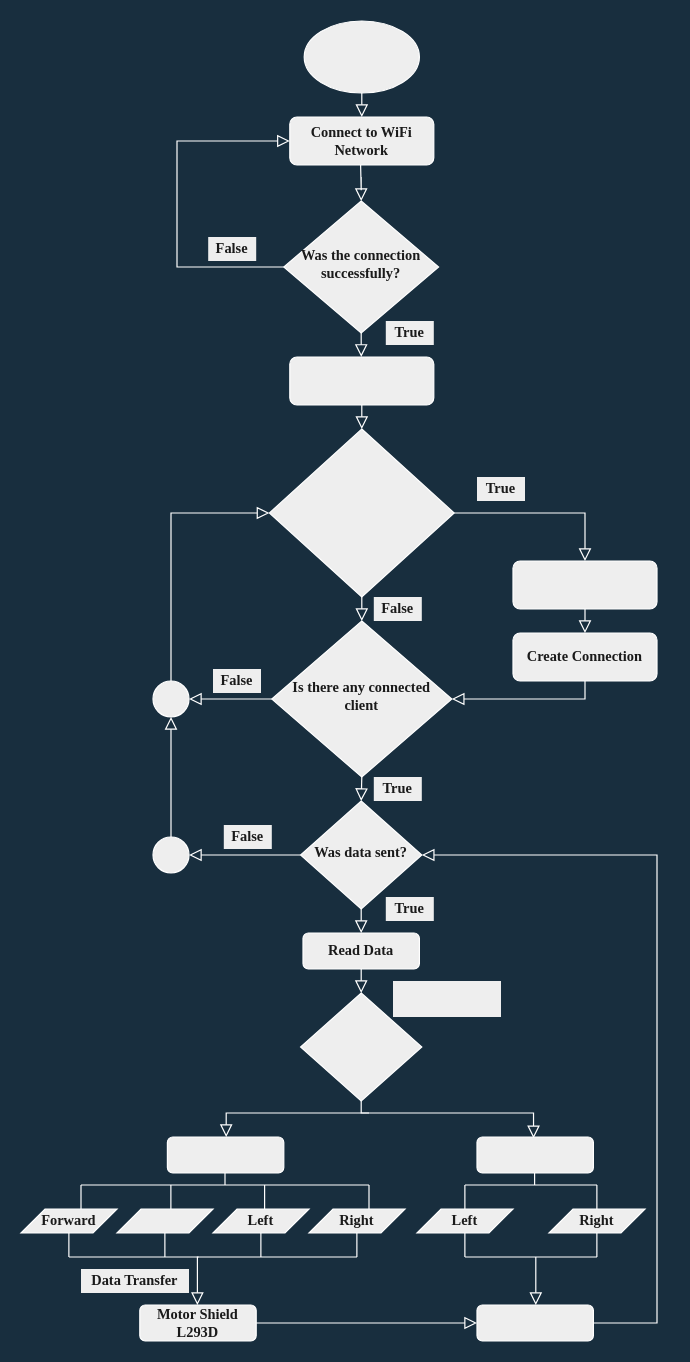
This 690x1362 diagram has some shape labels left out. Each missing label, with the centre of its shape:
Accept the request of client connection: pixel 584 584
Backward: pixel 164 1220
Checking of Signals: pixel 360 1046
Is there any client to waiting for connection?: pixel 361 512
Robot Movement: pixel 534 1322
Robotic Arm Control: pixel 534 1154
Robotic Motion: pixel 225 1154
Signals Transfer: pixel 446 998
Start: pixel 361 56
Start the server: pixel 361 380
